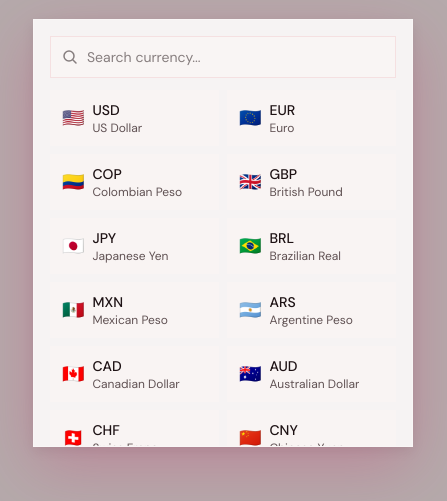
Test case: CurrencySelector › shows no results message for empty search
Type "XYZ" into the field with placeholder "Search currency..." at [223, 57], box [50,36,396,78]
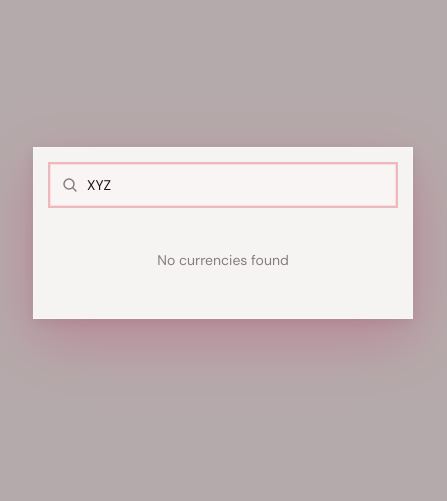
Check: the text "No currencies found" is shown, box [157,251,289,269]
